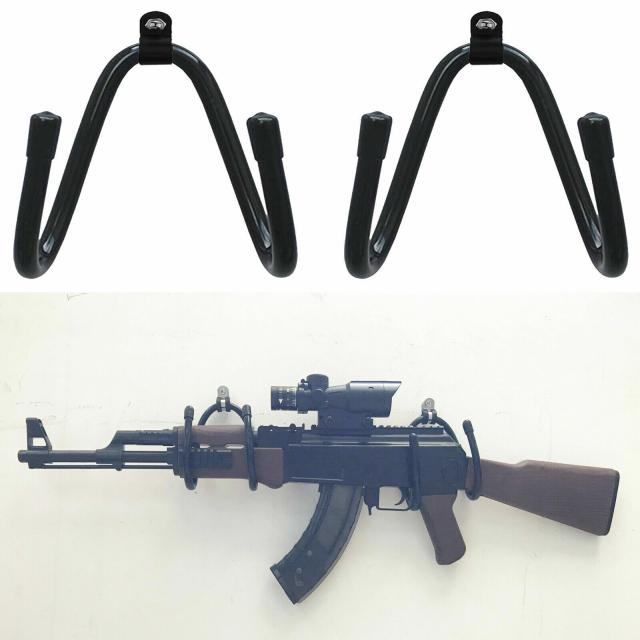Rifle: (16, 376, 621, 605)
